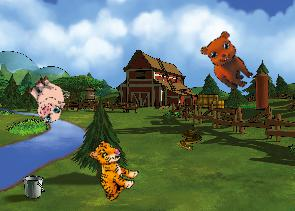bear: (194, 26, 264, 95)
pig: (19, 71, 75, 127)
tiger: (75, 136, 145, 205)
